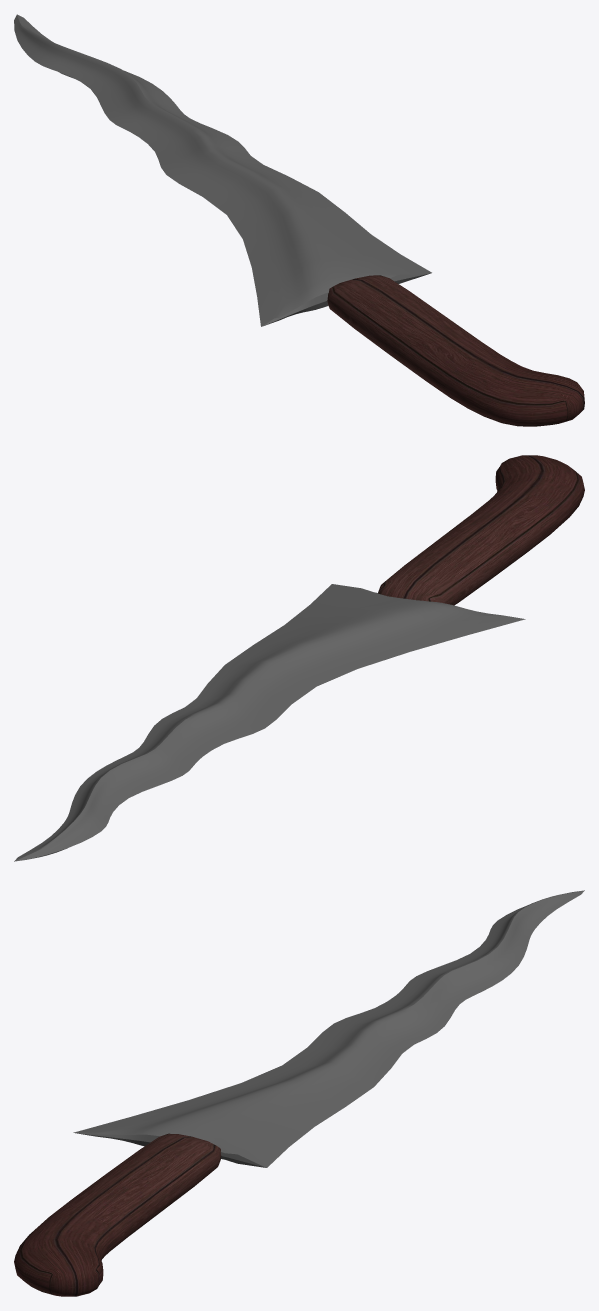
Rendered from Keris.fbx.
3 views of the same model, one above another, from view 1: azimuth 30°, elevation 25°; view 2: azimuth 150°, elevation 25°; view 3: azimuth 330°, elevation 25° (orthographic).
Parts seen in each view (by area): view 1: Object_6.001, Object_4.001; view 2: Object_6.001, Object_4.001; view 3: Object_6.001, Object_4.001.
Boxes of the visible parts, x1=… form: Object_6.001: x1=14, y1=14, x2=431, y2=326; Object_4.001: x1=327, y1=275, x2=584, y2=426; Object_6.001: x1=14, y1=584, x2=525, y2=861; Object_4.001: x1=378, y1=455, x2=584, y2=605; Object_6.001: x1=73, y1=890, x2=584, y2=1167; Object_4.001: x1=14, y1=1133, x2=221, y2=1296.
Size of the model in its own units: 81.04 by 17.98 by 417.
